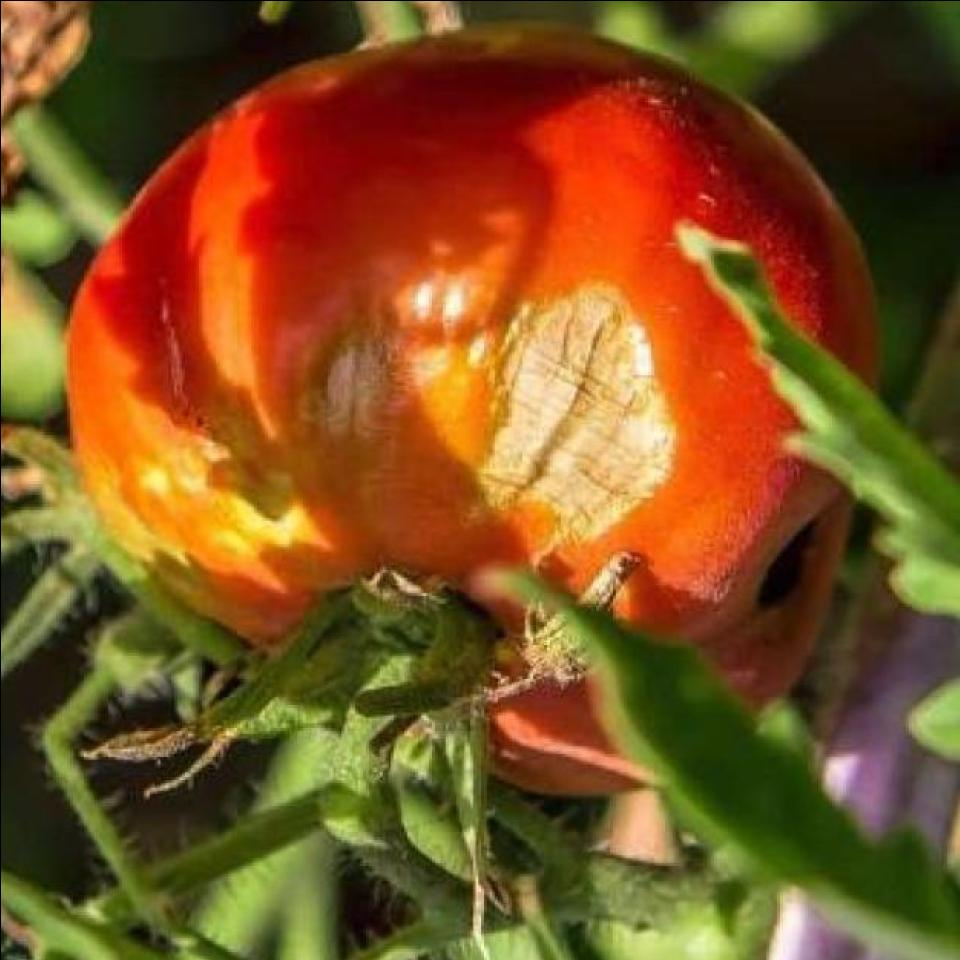Sunscald: (485, 310, 705, 554), (146, 432, 332, 574), (292, 290, 407, 488)
